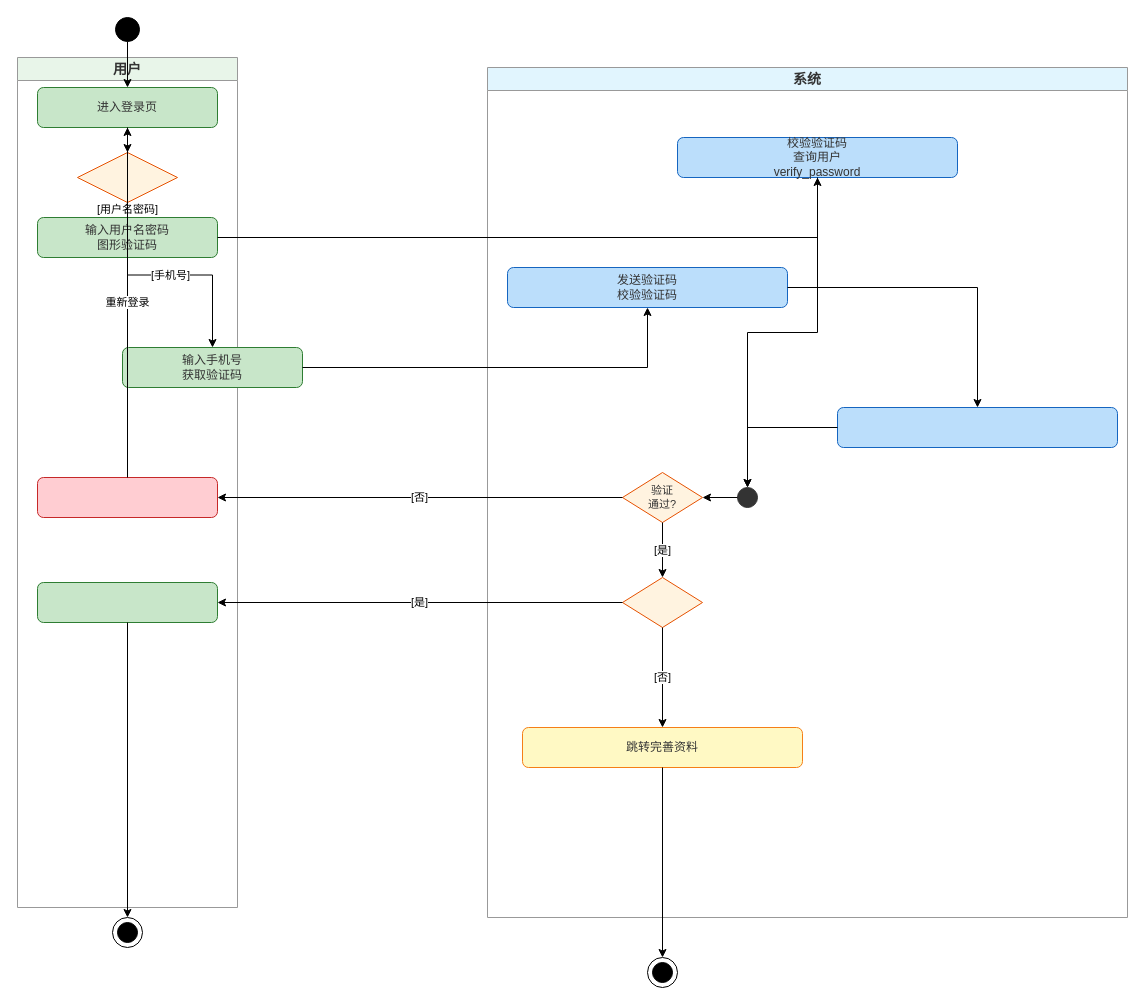
The diagram is 1145 pixels wide and 1005 high, and some of its shapes have lost their labels. The shapes that lost their labels are listed below. From the top down, each one's box as (x1, y1, x2, y2) in pixels, then its label:
(76, 152, 178, 202): 登录方式
(836, 406, 1118, 448): 查询/创建用户
(36, 476, 218, 518): 显示错误提示
(36, 582, 218, 622): 跳转首页
(622, 576, 702, 628): 信息 完整?
